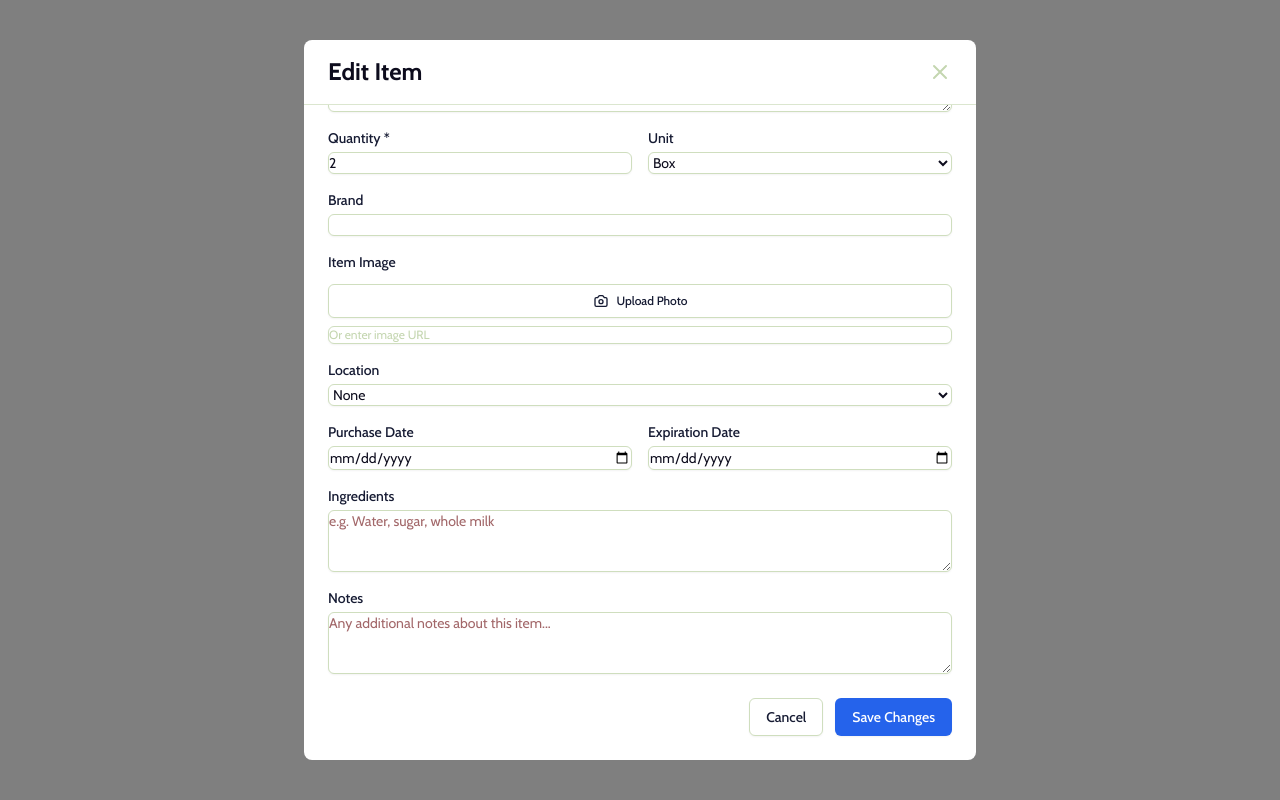
Test: EditItemModal › surfaces a server error message on submit failure
(page scrolled)
Click the button "Save Changes" at x=894, y=717, box [835,698,952,736]
(page scrolled)
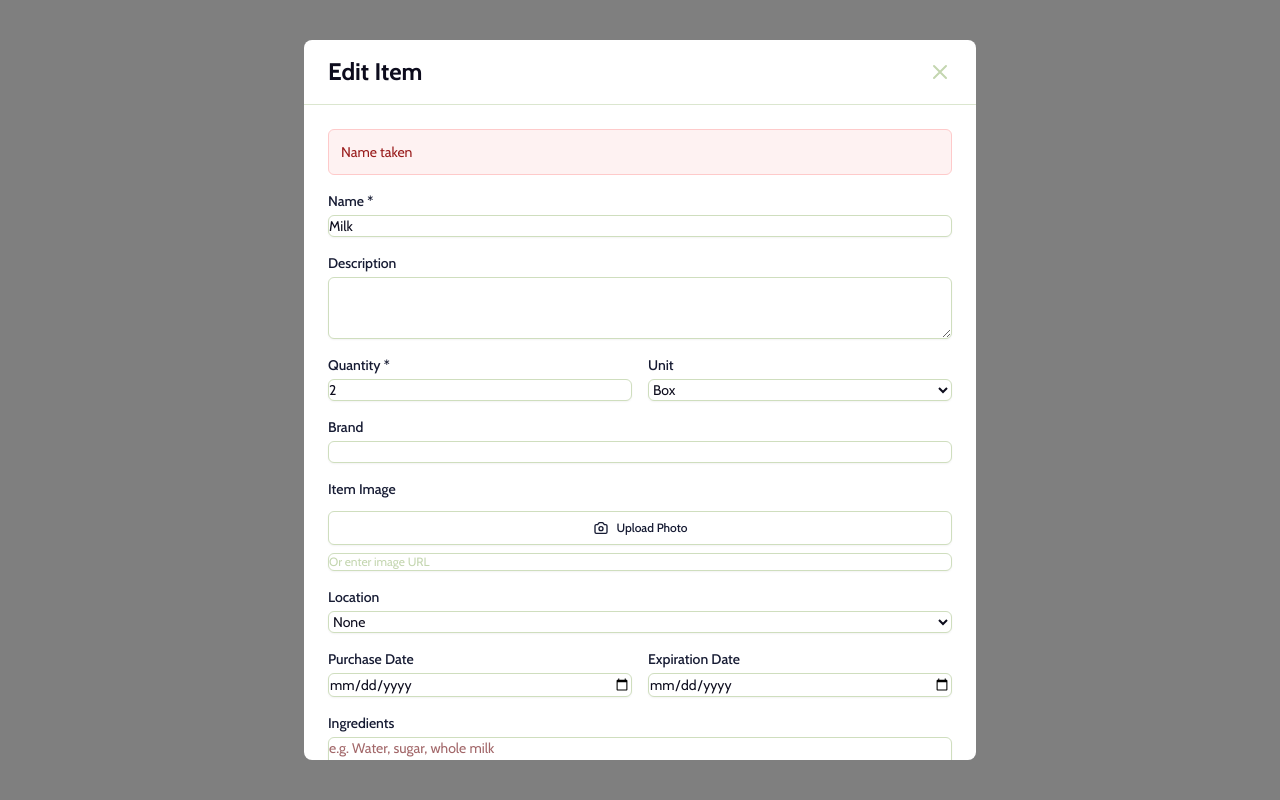
Expected: the text "Name taken" is shown, [341,143,412,161]
